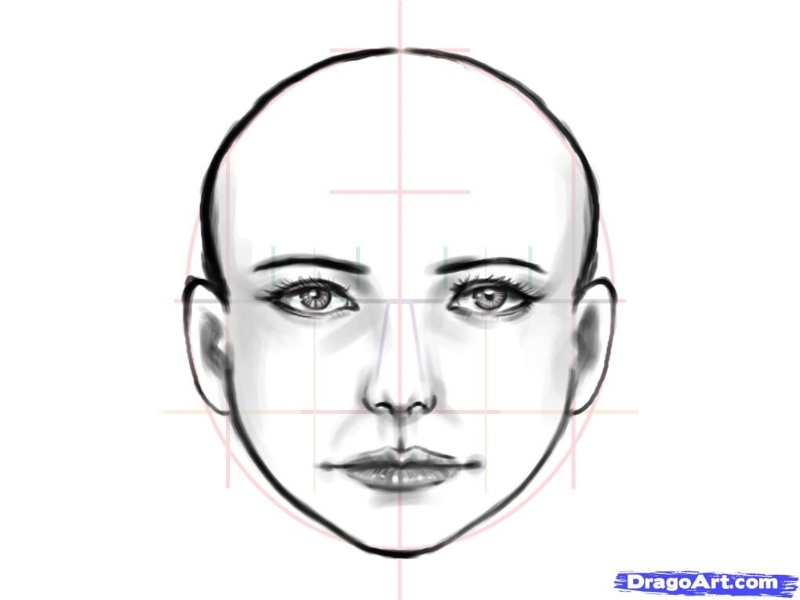face: (245, 246, 549, 503)
